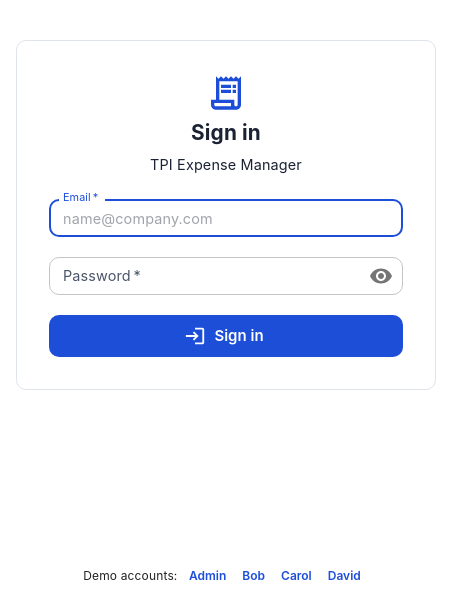
login › validates required fields without calling the API
Click the button "Sign in" at (226, 336), box top-left (49, 315), bottom-right (403, 357)
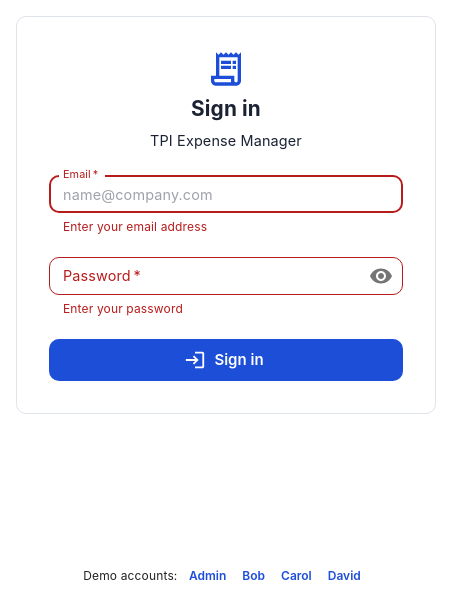
Result: the text "Enter your email address" is shown at top-left (63, 219), bottom-right (207, 234)
Result: the text "Enter your password" is shown at top-left (63, 301), bottom-right (183, 316)
